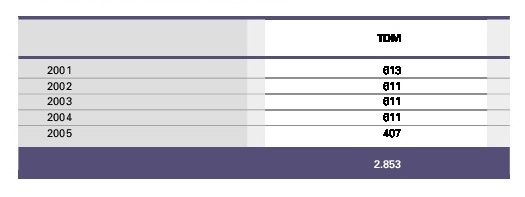table: (0, 0, 525, 197)
